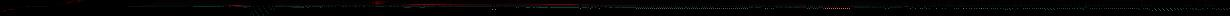Blue cone: (7, 9, 13, 10), (20, 7, 24, 8), (26, 6, 30, 7)
Yellow cone: (369, 1, 388, 6), (799, 5, 806, 7)
